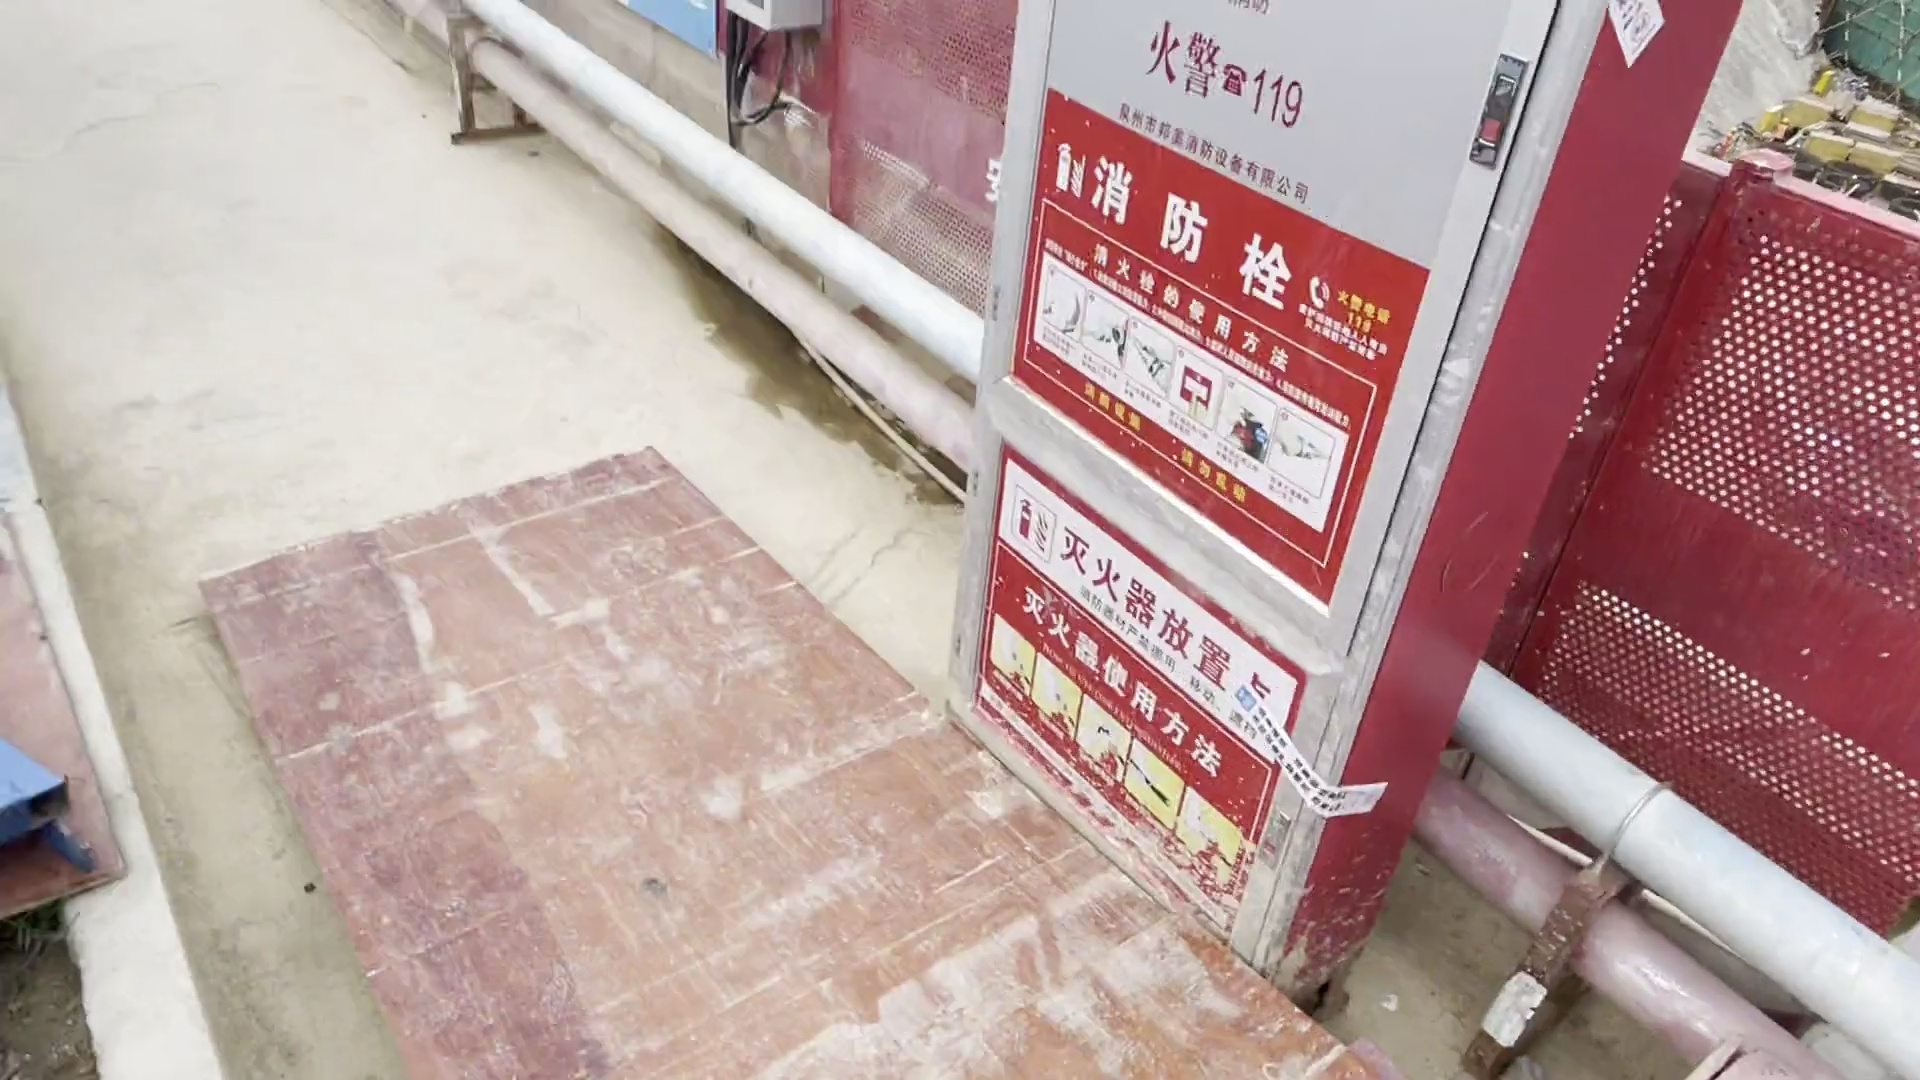board: (179, 444, 903, 1067)
fence: (1679, 185, 1920, 934)
